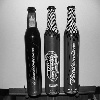beer: (20, 2, 44, 100)
